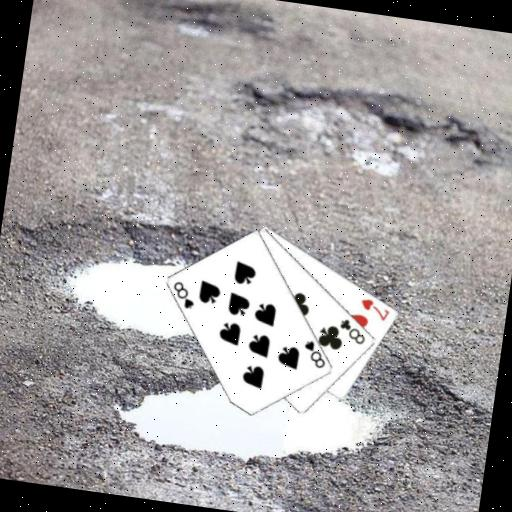7H: (356, 295, 393, 323)
8C: (334, 315, 369, 347)
8S: (299, 337, 330, 371), (168, 277, 199, 311)
